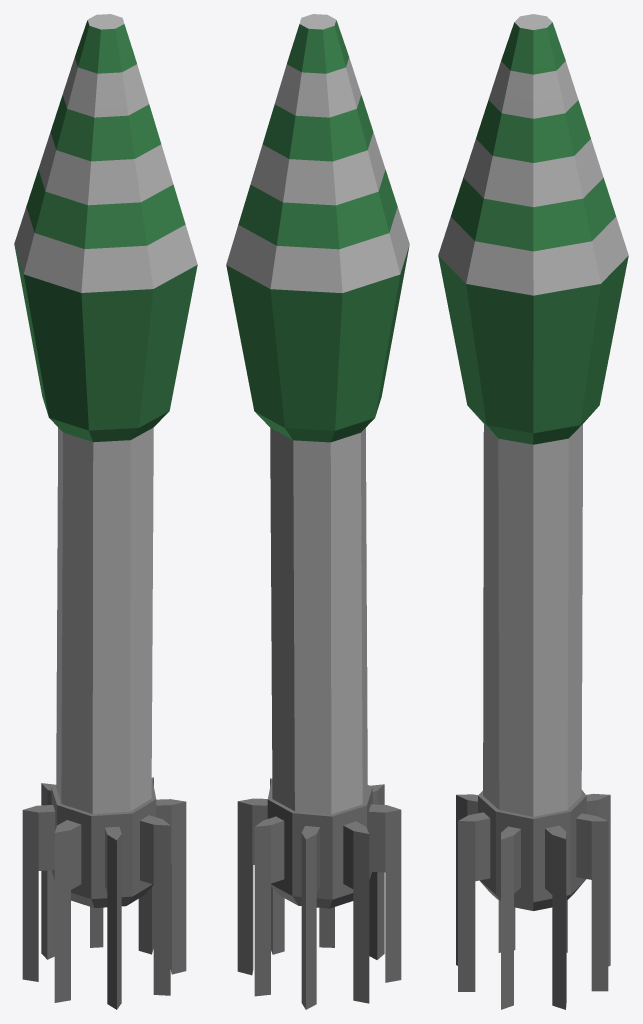
Rendered from RCKT-A.fbx.
3 renders of one model, left to right at view 1: azimuth 30°, elevation 25°; view 2: azimuth 150°, elevation 25°; view 3: azimuth 270°, elevation 25°, orthographic.
Parts seen in each view (by area): view 1: Cylinder.025; view 2: Cylinder.025; view 3: Cylinder.025.
Boxes of the visible parts, box(x1,y1,x2,y2) form: Cylinder.025: box(14, 14, 197, 1009); Cylinder.025: box(226, 14, 409, 1009); Cylinder.025: box(438, 14, 628, 1009).
Size of the model in its own units: 82.11 by 455 by 82.11.
